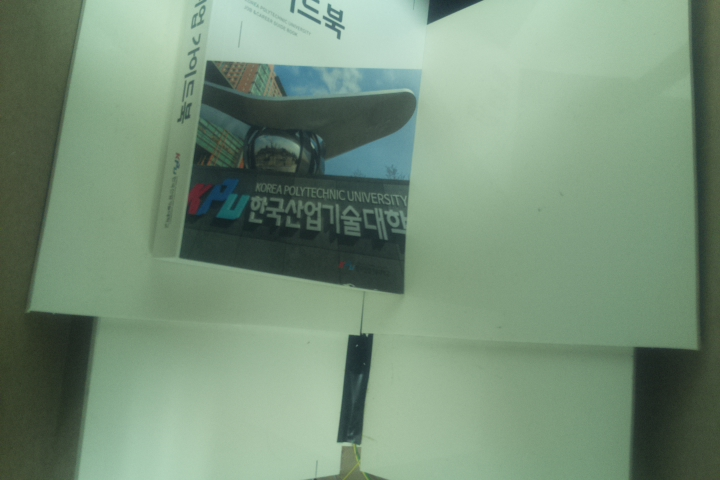book: (146, 1, 433, 298)
